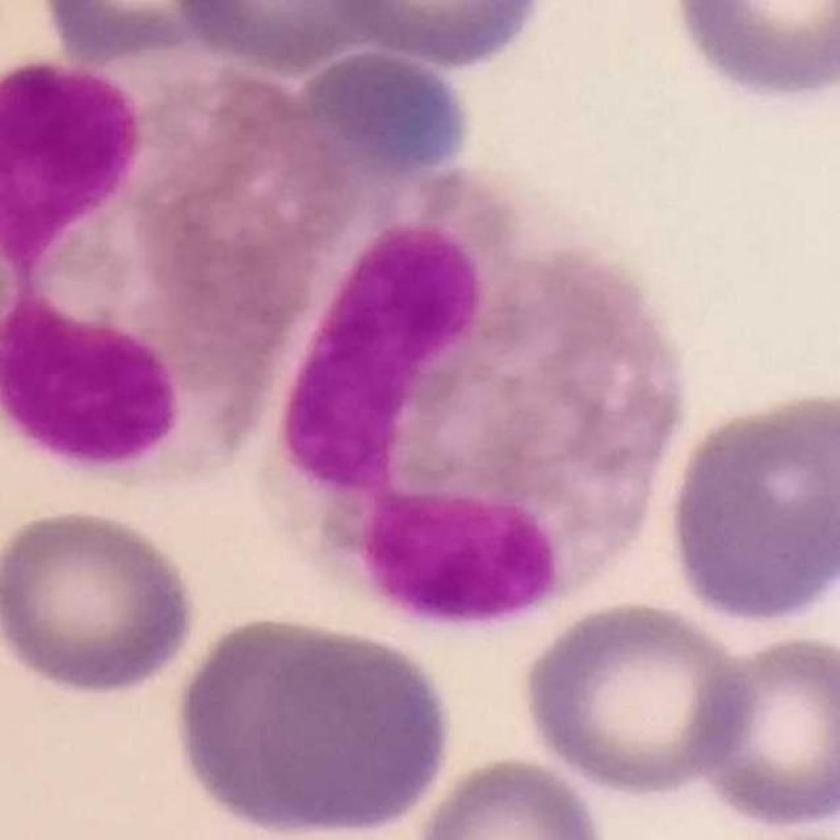eosinophil: (270, 161, 678, 622), (3, 65, 360, 480)
